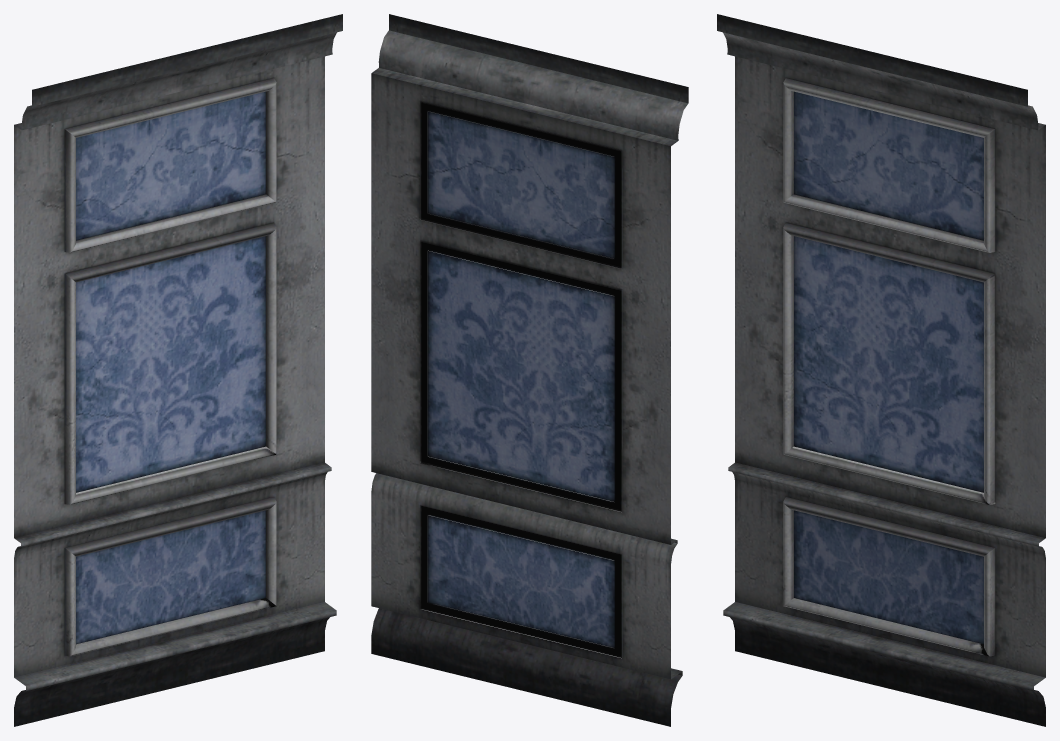
Rendered from short_blue.dae.
3 renders of one model, left to right at view 1: azimuth 30°, elevation 25°; view 2: azimuth 150°, elevation 25°; view 3: azimuth 330°, elevation 25°, orthographic. The views are drawn at different scales.
Visible parts, largest first — view 1: mansionbase_short; view 2: mansionbase_short; view 3: mansionbase_short.
Boxes of the visible parts, x1,y1,x2,y2 form: mansionbase_short: (14, 14, 342, 726); mansionbase_short: (371, 14, 688, 726); mansionbase_short: (717, 14, 1045, 726).
Size of the model in its own units: 2 by 4 by 0.2045.
